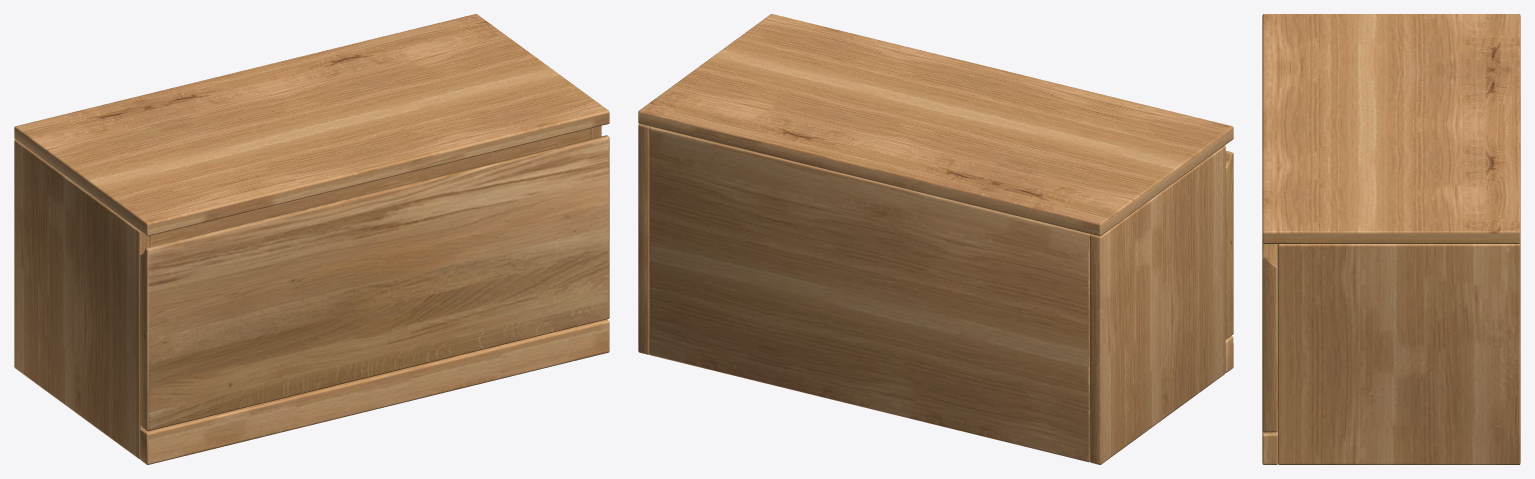
Rendered from B07K7YMBNY.glb.
The picture shows the model from 3 angles, left to right: view 1: azimuth 30°, elevation 25°; view 2: azimuth 150°, elevation 25°; view 3: azimuth 270°, elevation 25°; orthographic projection. The views are drawn at different scales.
Visible parts, largest first — view 1: B07K7YMBNY; view 2: B07K7YMBNY; view 3: B07K7YMBNY.
Boxes of the visible parts, bbox=[...] form: B07K7YMBNY: bbox=[14, 14, 609, 464]; B07K7YMBNY: bbox=[638, 14, 1233, 464]; B07K7YMBNY: bbox=[1262, 14, 1520, 464].
Bounding box in the file's own units: 0.7999 × 0.3998 × 0.3998.
Materials: 1 (1 with a texture image).
